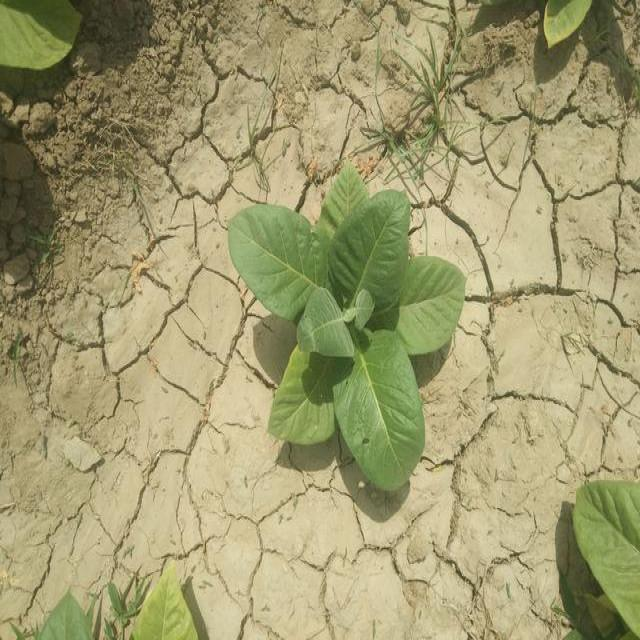crop: (232, 175, 470, 496), (34, 571, 202, 640), (571, 481, 639, 640), (1, 0, 87, 78), (542, 3, 600, 56)
